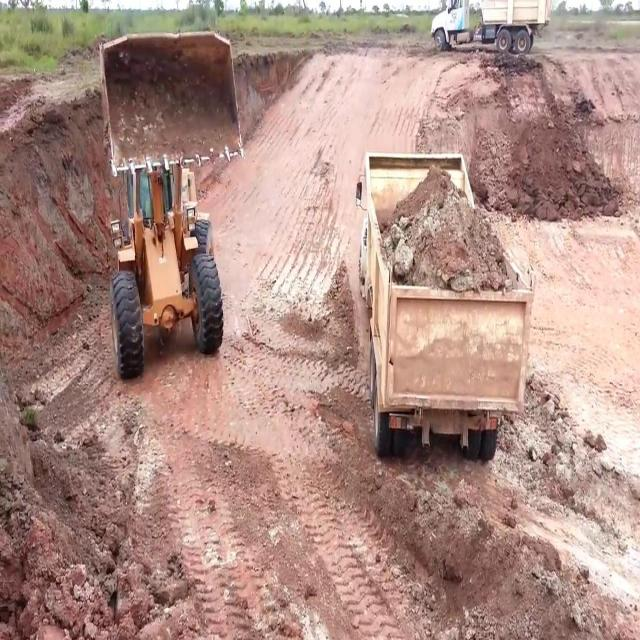Dump Truck: (356, 152, 526, 462), (429, 0, 552, 52)
Loader: (97, 35, 242, 376)
